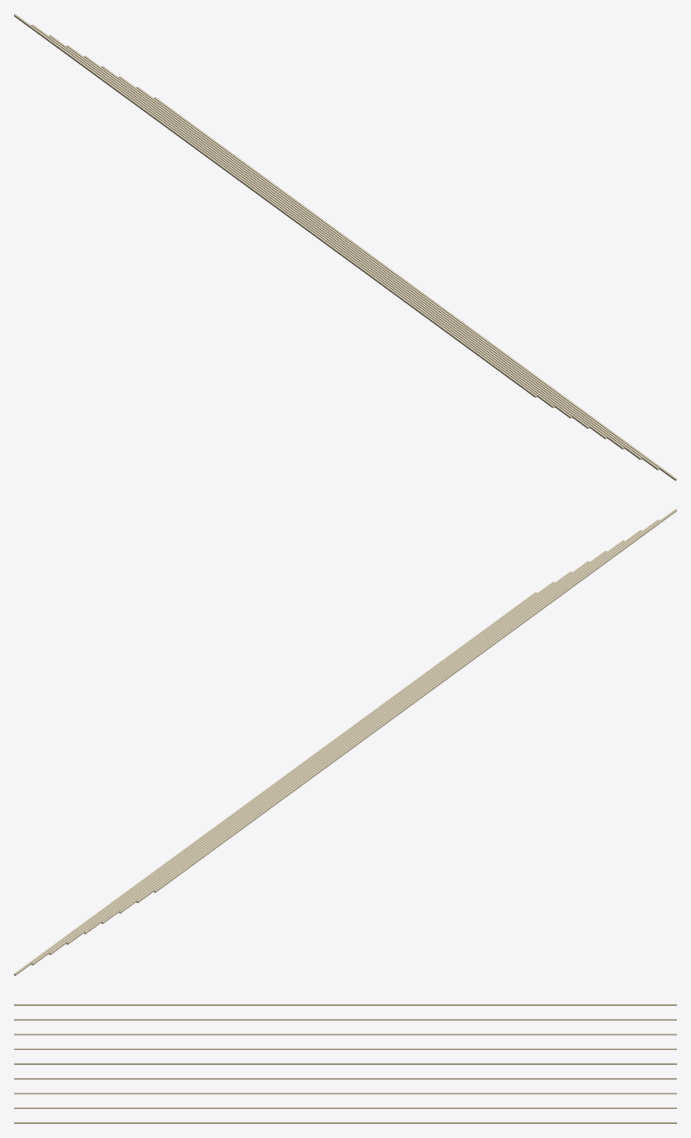
Rendered from StandsE_Trim.fbx.
The picture shows the model from 3 angles, top to bottom: view 1: azimuth 30°, elevation 25°; view 2: azimuth 150°, elevation 25°; view 3: azimuth 270°, elevation 25°; orthographic projection. The views are drawn at different scales.
Parts seen in each view (by area): view 1: TierLipE0.001; view 2: TierLipE0.001; view 3: TierLipE0.001.
Boxes of the visible parts, x1,y1,x2,y2 form: TierLipE0.001: (14,14,676,480); TierLipE0.001: (14,509,676,975); TierLipE0.001: (14,1004,676,1123).
Size of the model in its own units: 4050 by 3250 by 25800.
